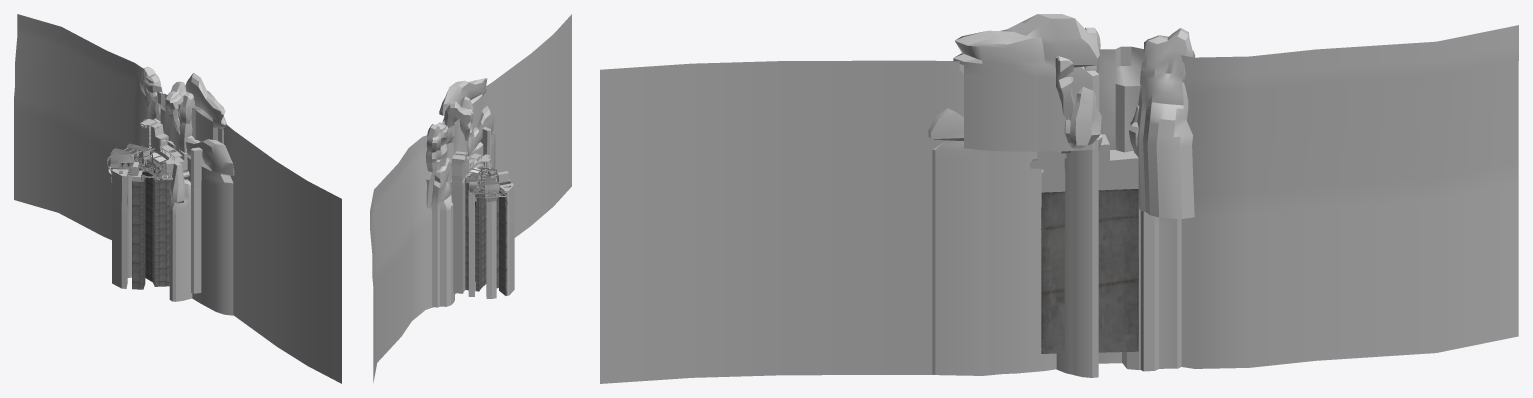
Rendered from StLucia_03.fbx.
3 views of the same model, side by side, from view 1: azimuth 30°, elevation 25°; view 2: azimuth 150°, elevation 25°; view 3: azimuth 270°, elevation 25° (orthographic). The views are drawn at different scales.
Parts seen in each view (by area): view 1: cliff, cliff.005, cliff.001, cliff.004, Cube.092, StLucia_03, StLucia_03.001, Cube.079, Cube.077, Cube.090, Cube.075, Cube.091 (+1 smaller); view 2: cliff, cliff.005, cliff.001, cliff.004, Cube.090, Cube.079, Cube.092, StLucia_03.001, StLucia_03, Cube.077, Cube.091, Cube.075 (+2 smaller); view 3: cliff, cliff.005, cliff.001, cliff.004, StLucia_03.001, StLucia_03.
Boxes of the visible parts, box(x1,y1,x2,y2) form: cliff: box(14, 14, 341, 294); cliff.005: box(14, 110, 341, 383); cliff.001: box(139, 66, 234, 229); cliff.004: box(169, 213, 233, 315); Cube.092: box(112, 208, 145, 289); StLucia_03: box(139, 122, 189, 211); StLucia_03.001: box(145, 203, 169, 286); Cube.079: box(140, 119, 204, 218); Cube.077: box(112, 162, 145, 214); Cube.090: box(191, 218, 201, 293); Cube.075: box(108, 148, 144, 202); Cube.091: box(127, 202, 131, 277); cliff: box(370, 14, 571, 299); cliff.005: box(373, 103, 571, 382); cliff.001: box(426, 78, 495, 227); cliff.004: box(432, 178, 495, 307); Cube.090: box(453, 220, 474, 296); Cube.079: box(451, 127, 490, 223); Cube.092: box(496, 218, 514, 295); StLucia_03.001: box(465, 214, 486, 291); StLucia_03: box(450, 151, 496, 221); Cube.077: box(496, 171, 514, 225); Cube.091: box(486, 227, 496, 298); Cube.075: box(475, 176, 507, 228); cliff: box(600, 25, 1518, 231); cliff.005: box(600, 184, 1518, 383); cliff.001: box(928, 14, 1195, 231); cliff.004: box(932, 221, 1181, 377); StLucia_03.001: box(1041, 224, 1138, 353); StLucia_03: box(1030, 134, 1138, 226).
Size of the model in its own units: 13517 by 33275 by 77274.
